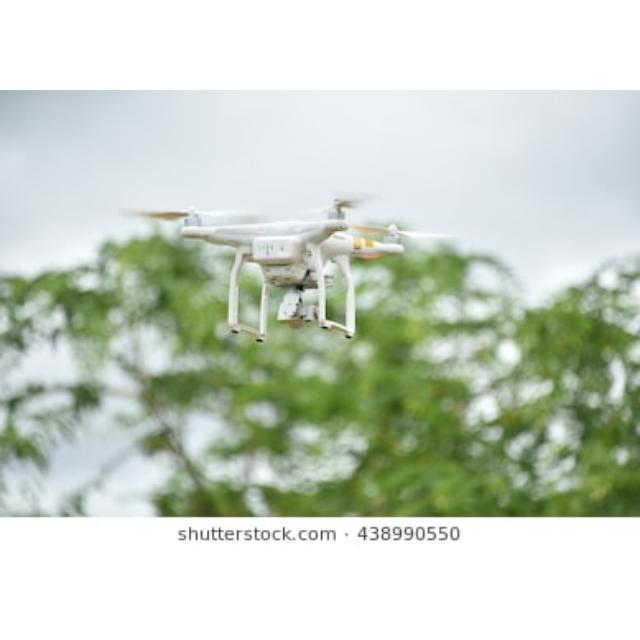Drones: (156, 191, 442, 339)
